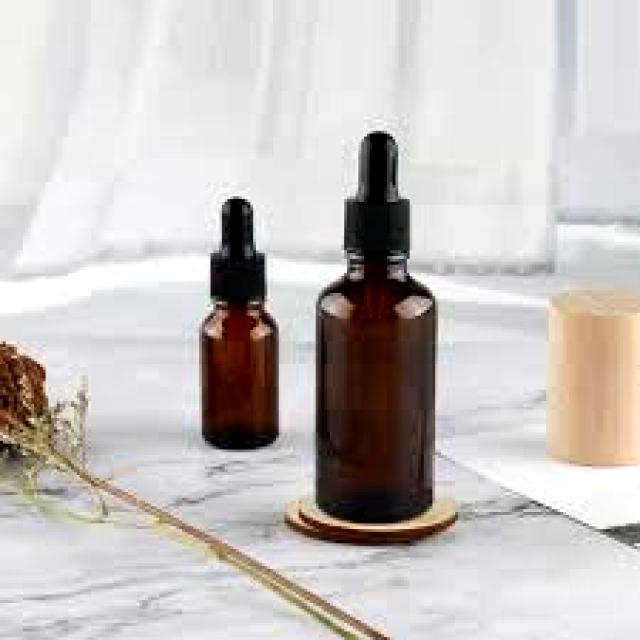Glass: (312, 194, 437, 526), (197, 242, 284, 454)
